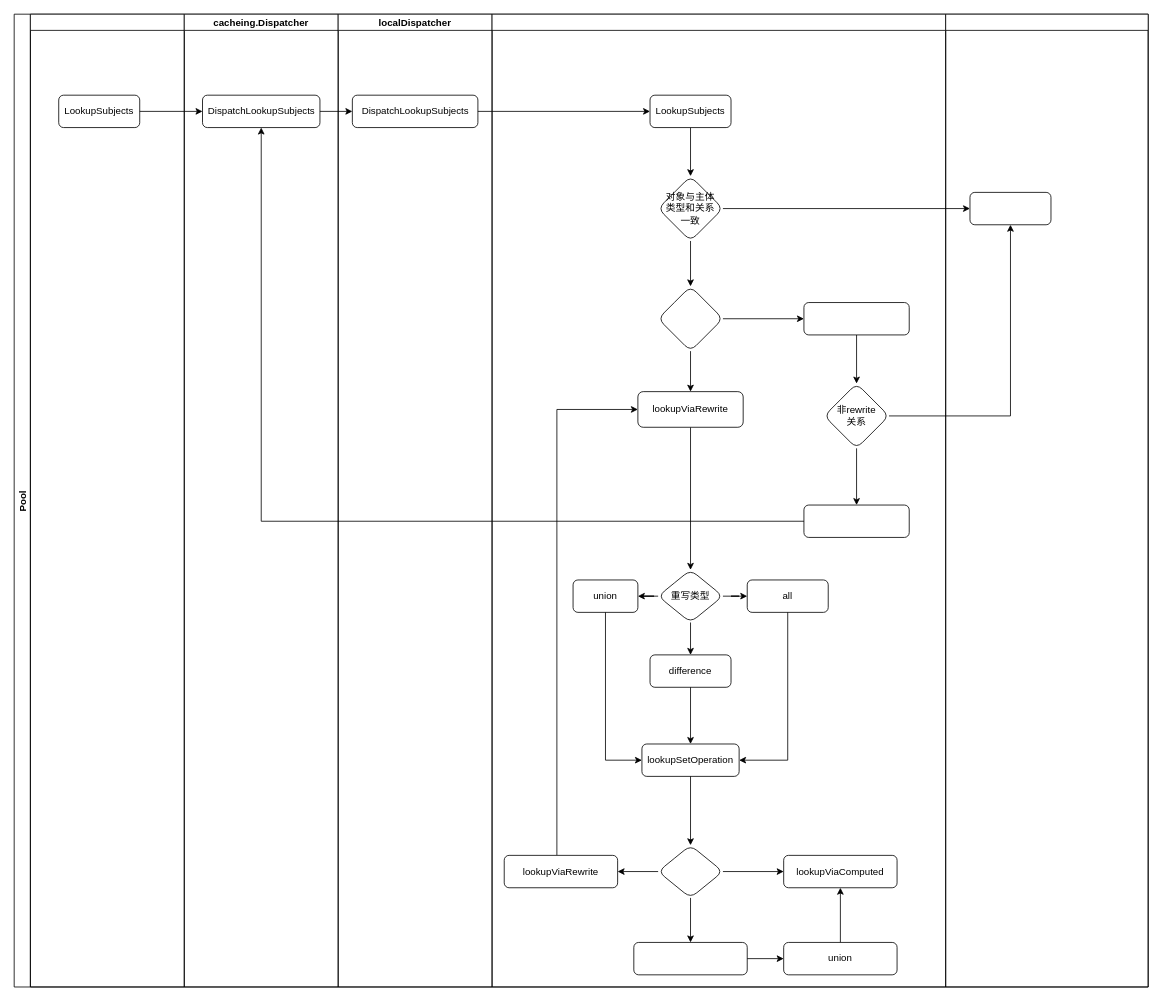
The diagram is 1162 pixels wide and 1001 high, and some of its shapes have lost their labels. Each missing label, with the box of its shape:
dispatch.LookupSubjectsStream: (945, 13, 1148, 987)
dispatchTo: (803, 504, 909, 537)
lookupDirectSubjects: (803, 302, 909, 335)
lookupSubjectsHandler: (491, 13, 946, 987)
lookupViaTupleToUserset: (633, 942, 747, 975)
permission: (30, 13, 184, 987)
Publish: (969, 192, 1051, 225)
relation 是否重写: (657, 286, 723, 351)
子节点 类型: (657, 844, 723, 898)
